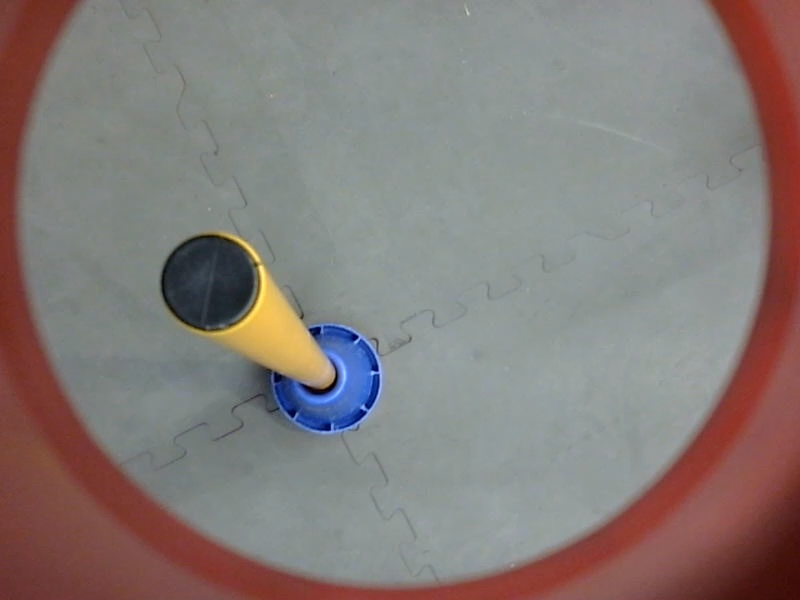tip: (153, 226, 266, 337)
